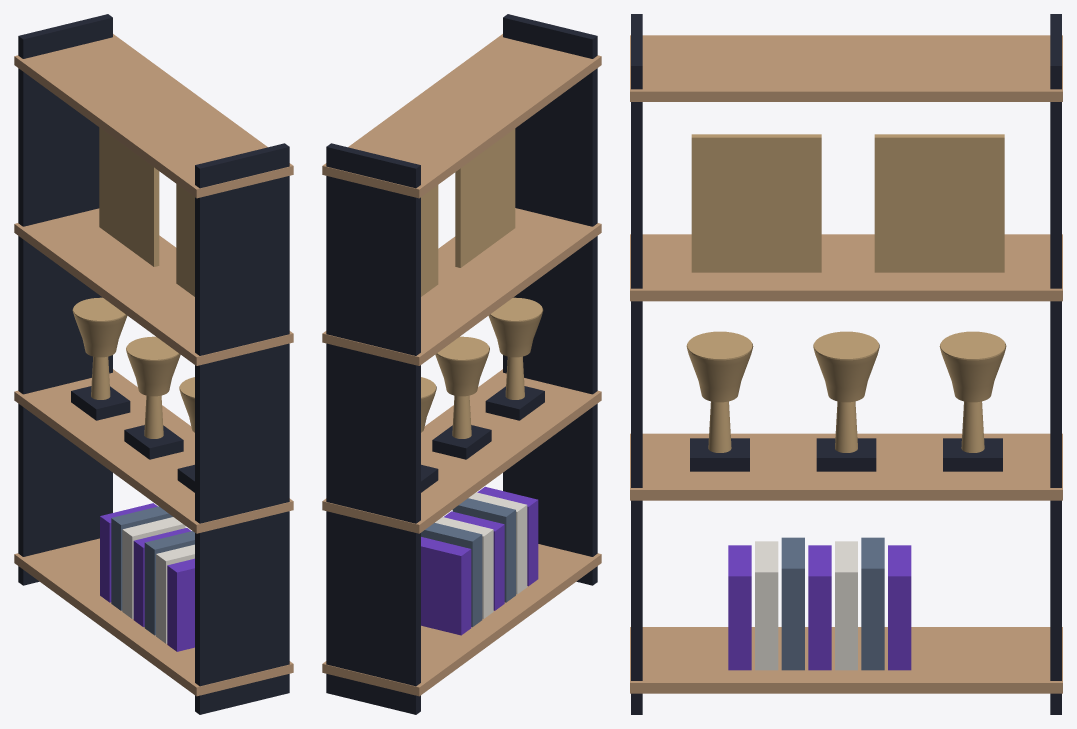
Rendered from shelf.glb.
The picture shows the model from 3 angles, left to right: view 1: azimuth 30°, elevation 25°; view 2: azimuth 150°, elevation 25°; view 3: azimuth 270°, elevation 25°; orthographic projection. The views are drawn at different scales.
Bounding box in the file's own units: 0.4 × 2.15 × 1.3.
